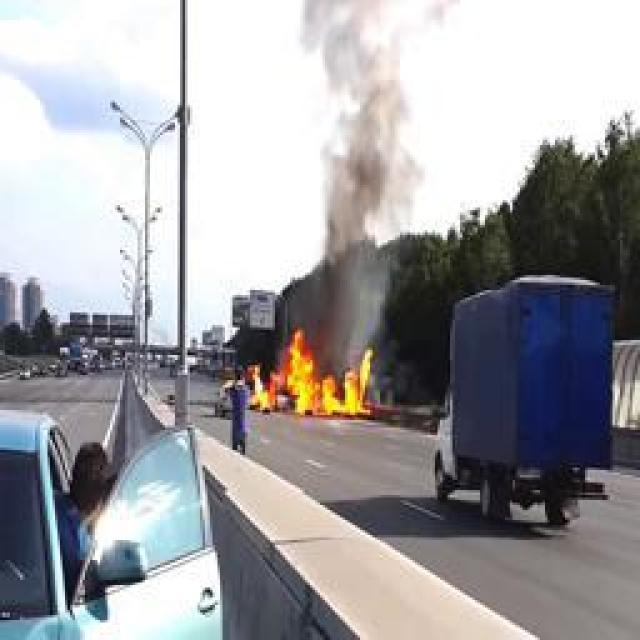Fire: (252, 327, 376, 415)
